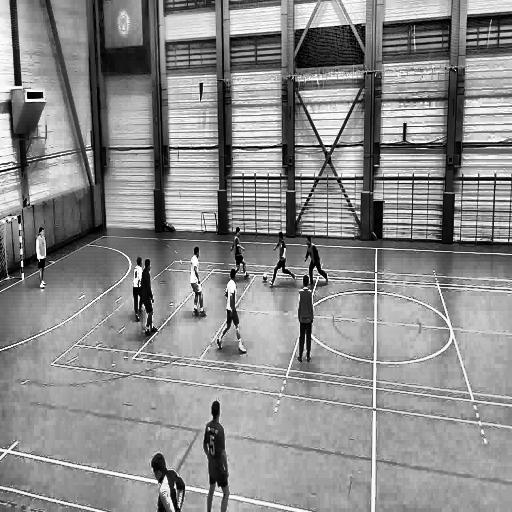ball: (262, 270, 268, 284)
player: (216, 266, 248, 356), (297, 275, 315, 365), (188, 243, 208, 320), (271, 229, 295, 287), (142, 260, 159, 338), (35, 225, 48, 293), (231, 225, 249, 268), (131, 254, 142, 323), (304, 233, 322, 274)
